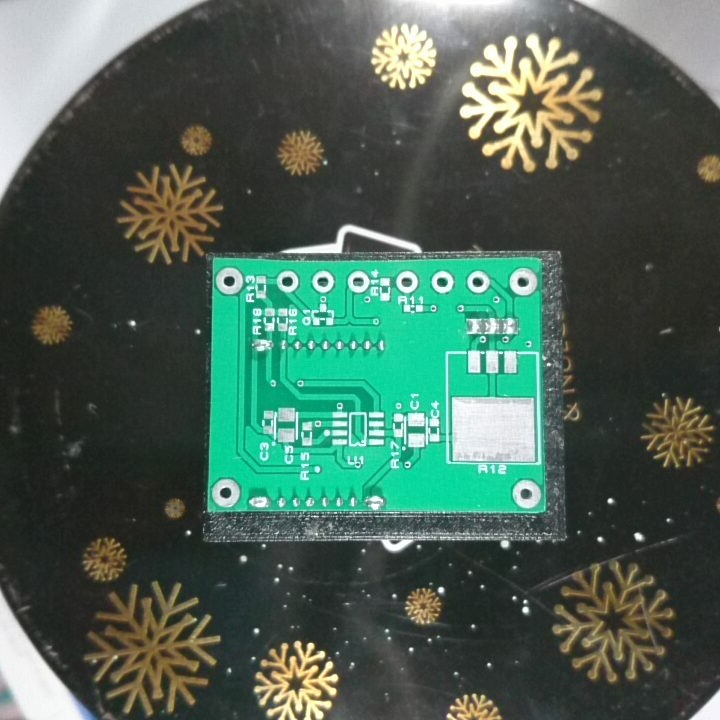F: (510, 478, 544, 511), (210, 477, 242, 508), (506, 265, 539, 295), (214, 264, 241, 295), (464, 266, 492, 294), (428, 267, 457, 294), (309, 268, 337, 294), (274, 267, 299, 293), (394, 269, 419, 293), (346, 267, 369, 292)
P: (363, 490, 388, 511), (245, 490, 271, 509), (248, 336, 276, 353)
